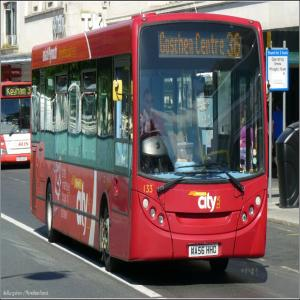Vehicle-registration-plate: (190, 245, 219, 258)
